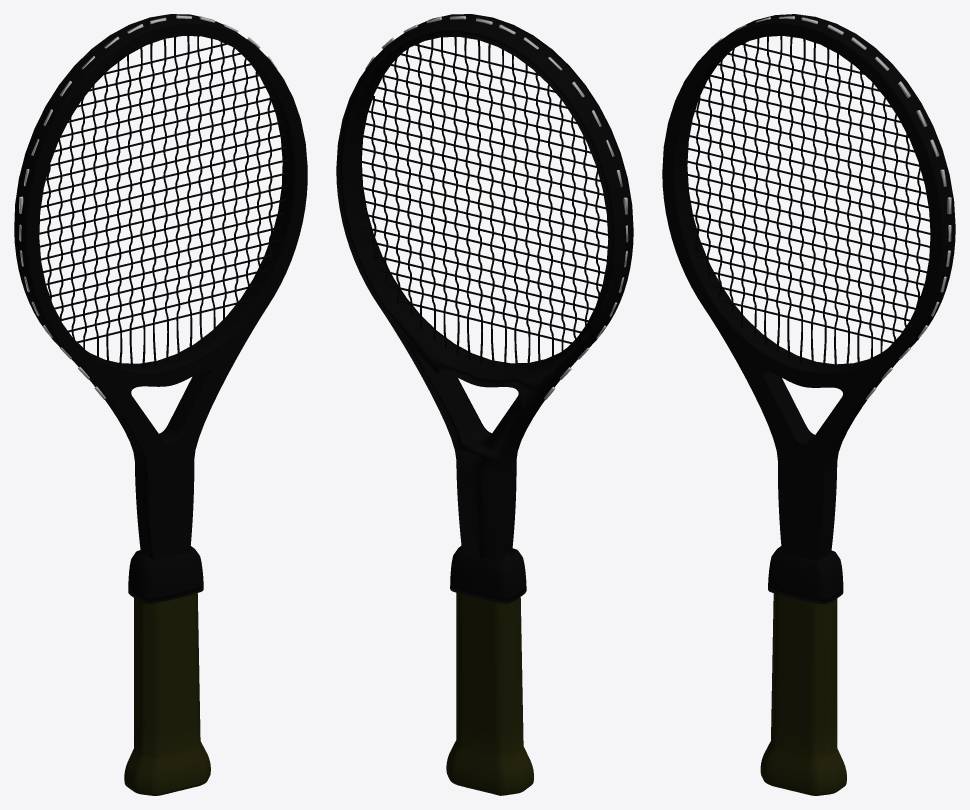
Rendered from TennisRaket.obj.
3 renders of one model, left to right at view 1: azimuth 30°, elevation 25°; view 2: azimuth 150°, elevation 25°; view 3: azimuth 330°, elevation 25°, orthographic.
Visible parts, largest first — view 1: Material__43; view 2: Material__43; view 3: Material__43.
Part boxes in pixels (x1,y1,x2,y2): Material__43: [14, 14, 307, 795]; Material__43: [336, 14, 633, 795]; Material__43: [662, 14, 955, 795].
Bounding box in the file's own units: 11.14 × 28.67 × 1.94.
